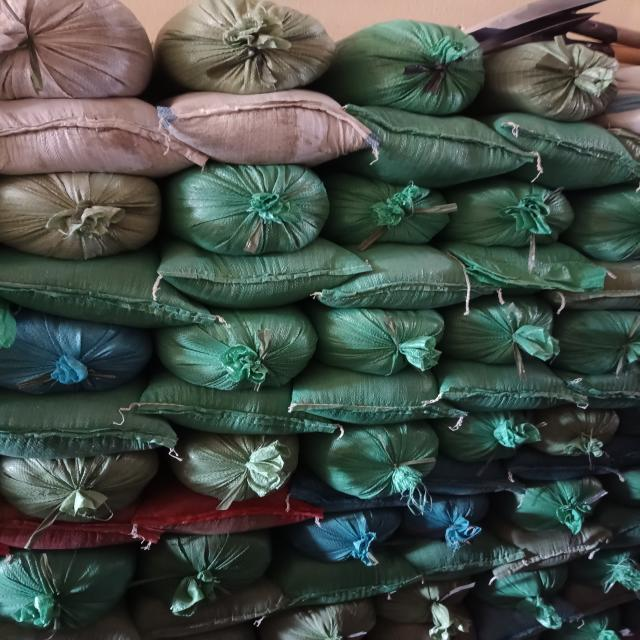Bistay sand: (1, 1, 154, 101), (156, 10, 328, 89), (1, 106, 197, 175), (167, 97, 363, 166), (350, 107, 530, 181), (1, 180, 158, 259), (1, 448, 168, 518), (8, 548, 134, 636), (490, 115, 640, 185), (2, 279, 210, 329), (162, 245, 370, 295), (173, 310, 317, 379), (1, 320, 145, 389), (452, 183, 588, 255), (328, 177, 464, 249), (179, 174, 315, 246), (1, 392, 175, 448), (156, 386, 330, 442), (324, 421, 444, 501), (346, 31, 477, 101), (152, 535, 272, 609), (182, 432, 310, 500), (320, 307, 451, 372), (490, 50, 614, 116), (320, 262, 501, 306), (443, 292, 547, 366), (294, 378, 448, 422), (511, 475, 619, 536), (401, 488, 509, 549), (298, 505, 406, 566), (442, 364, 582, 411), (552, 304, 640, 373), (482, 559, 578, 622), (525, 405, 629, 461), (445, 408, 549, 464), (462, 252, 602, 291), (397, 576, 486, 636), (169, 501, 321, 534), (577, 188, 640, 260), (3, 516, 136, 549), (272, 603, 381, 640), (582, 546, 640, 602), (571, 377, 640, 420), (549, 281, 640, 311)
